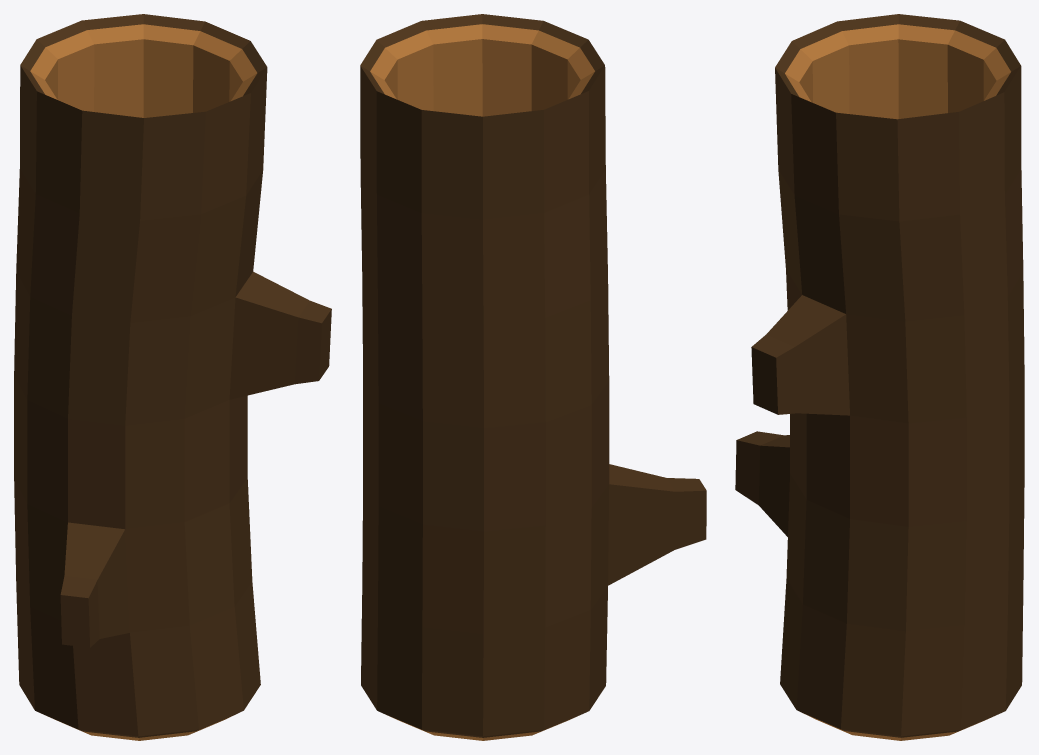
The model's file is brevno.fbx.
3 views of the same model, side by side, from view 1: azimuth 30°, elevation 25°; view 2: azimuth 150°, elevation 25°; view 3: azimuth 270°, elevation 25° (orthographic).
Parts seen in each view (by area): view 1: Cylinder.005; view 2: Cylinder.005; view 3: Cylinder.005.
Boxes of the visible parts, left/top/right/bottom form: Cylinder.005: left=14, top=14, right=331, bottom=740; Cylinder.005: left=360, top=14, right=706, bottom=740; Cylinder.005: left=735, top=14, right=1024, bottom=740.
Size of the model in its own units: 175 by 378 by 156.
